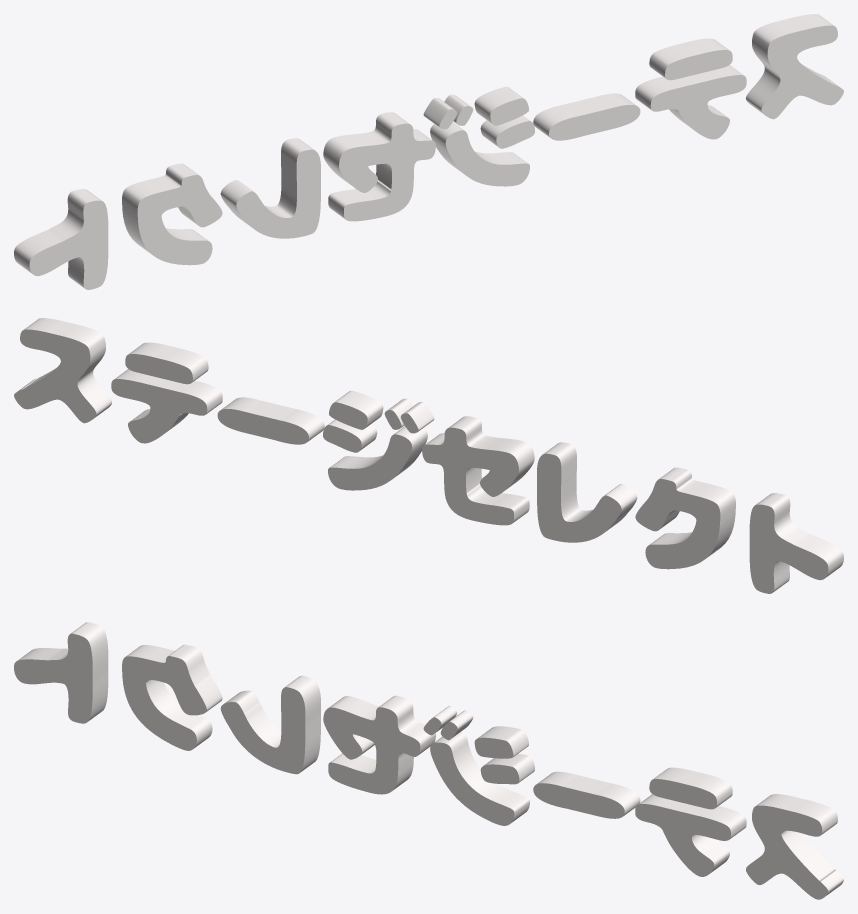
Rendered from StageSelect.obj.
The picture shows the model from 3 angles, top to bottom: view 1: azimuth 30°, elevation 25°; view 2: azimuth 150°, elevation 25°; view 3: azimuth 330°, elevation 25°; orthographic projection.
Visible parts, largest first — view 1: セレクト; view 2: セレクト; view 3: セレクト.
Boxes of the visible parts, box(x1,y1,x2,y2) form: セレクト: box(14, 14, 843, 289); セレクト: box(14, 318, 843, 593); セレクト: box(14, 622, 843, 899).
Size of the model in its own units: 6.01 by 0.6674 by 0.2.
